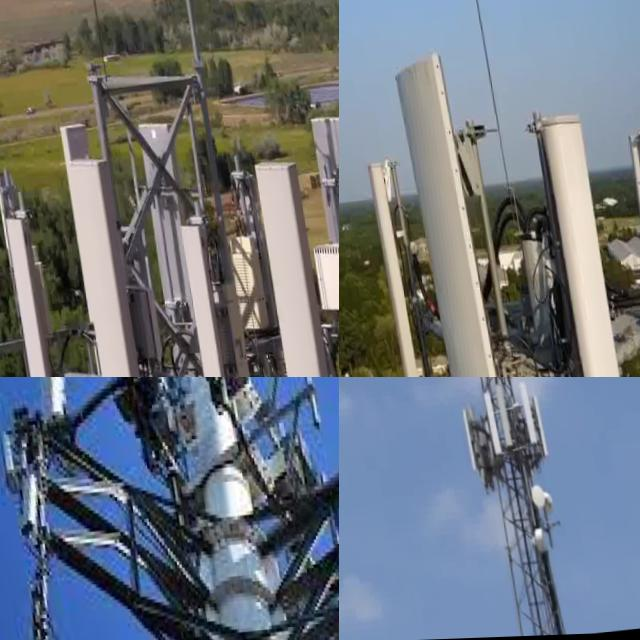GSM Antenna: (382, 39, 537, 377), (526, 100, 640, 377), (55, 136, 167, 377), (241, 145, 339, 377), (352, 155, 441, 377), (126, 113, 200, 377), (0, 205, 65, 377), (302, 101, 339, 377), (619, 125, 640, 377), (7, 377, 71, 425), (522, 386, 545, 466), (508, 377, 531, 453), (473, 387, 496, 460), (485, 381, 507, 451), (448, 411, 469, 475)
Microwave Antenna: (515, 480, 539, 514), (530, 492, 550, 518), (518, 530, 537, 556)
